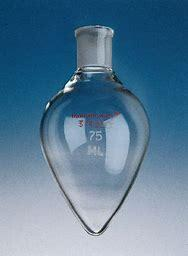Pear shaped flask: (31, 20, 154, 237)
